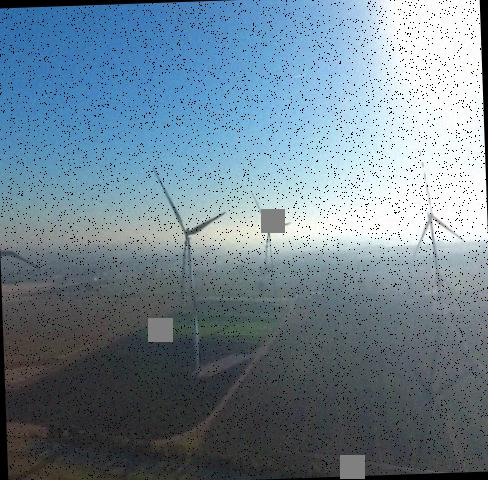wind turbine: (152, 161, 226, 371), (413, 174, 469, 307), (249, 189, 290, 274)
